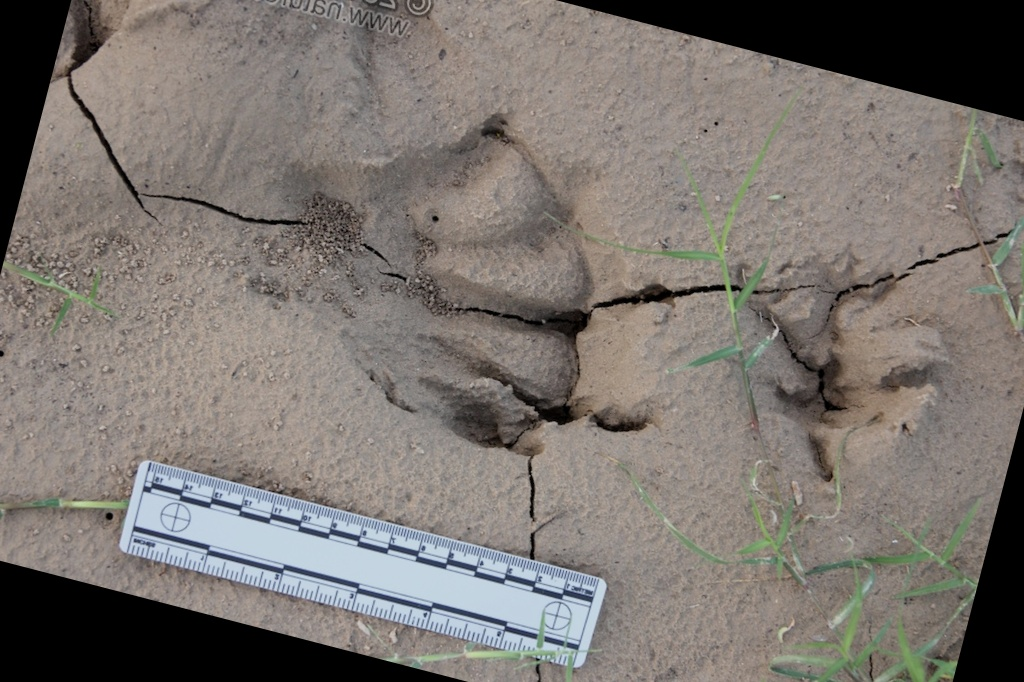beaver: (183, 0, 764, 533)
